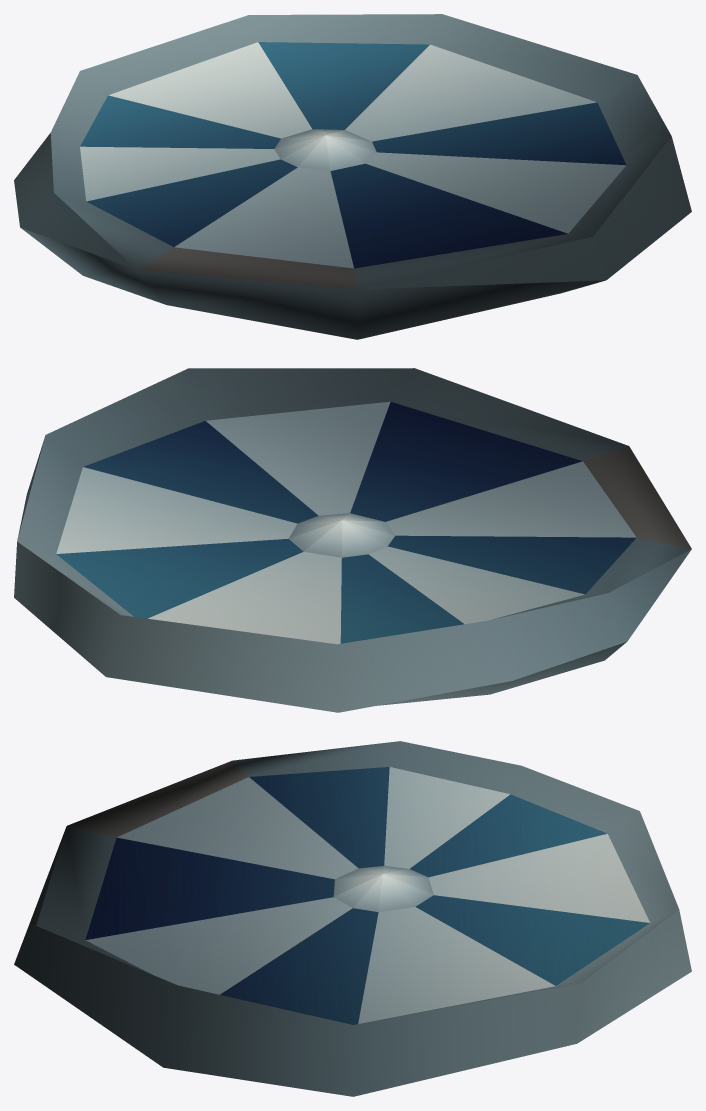
Rendered from MediumShield_mdl.FBX.
3 renders of one model, top to bottom at view 1: azimuth 30°, elevation 25°; view 2: azimuth 150°, elevation 25°; view 3: azimuth 270°, elevation 25°, orthographic. The views are drawn at different scales.
Visible parts, largest first — view 1: shield_mdl; view 2: shield_mdl; view 3: shield_mdl.
Part boxes in pixels (<box>): shield_mdl: <box>14,14,691,339</box>; shield_mdl: <box>14,368,691,712</box>; shield_mdl: <box>14,741,691,1096</box>.
Size of the model in its own units: 62.78 by 8.95 by 59.28.
